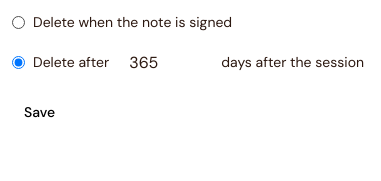
it: AudioRetentionSettings › refuses  days
The width and height of the screenshot is (381, 181).
Clear the number field named "Days to keep session audio": (165, 62) x1=117 y1=44 x2=213 y2=80
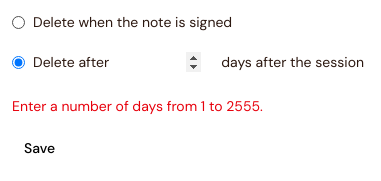
Expected: the button "Save" is disabled, x1=12 y1=132 x2=67 y2=164
Now the message reads "Enter a number of days from 1 to 2555.", box x1=12 y1=97 x2=263 y2=115
